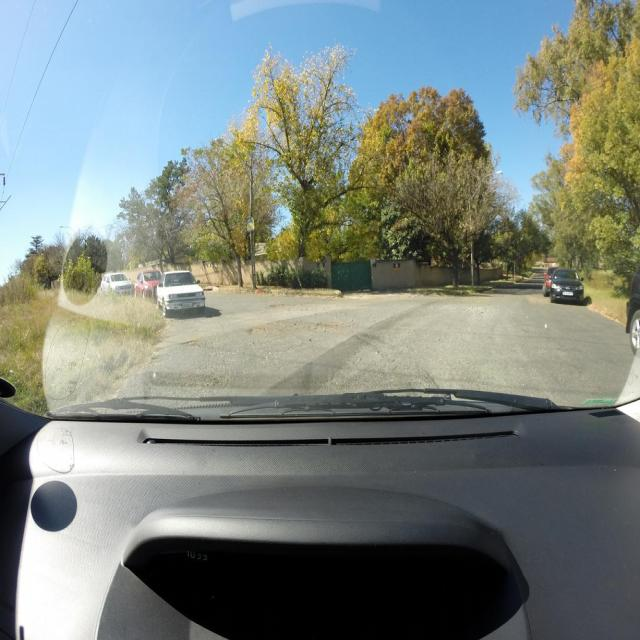Pothole: (310, 321, 337, 330), (249, 326, 269, 333), (268, 303, 290, 308)
